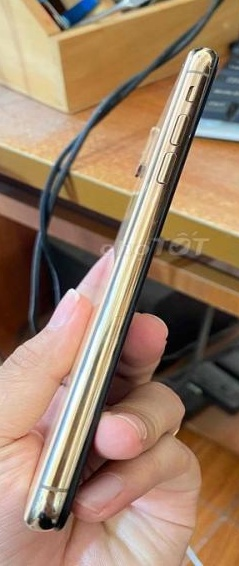scratch: (146, 214, 167, 233)
